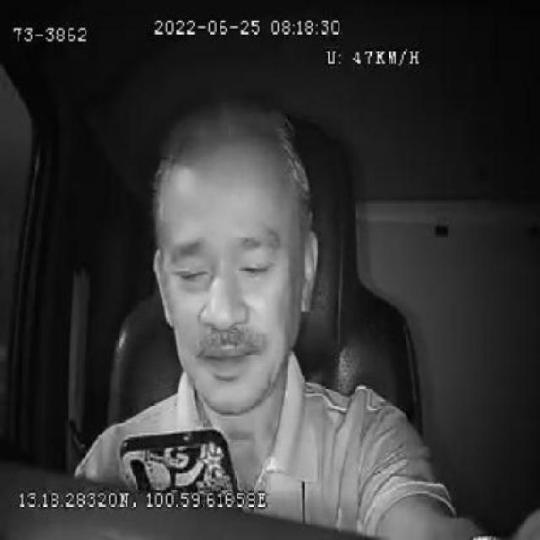phone: (119, 425, 240, 491)
